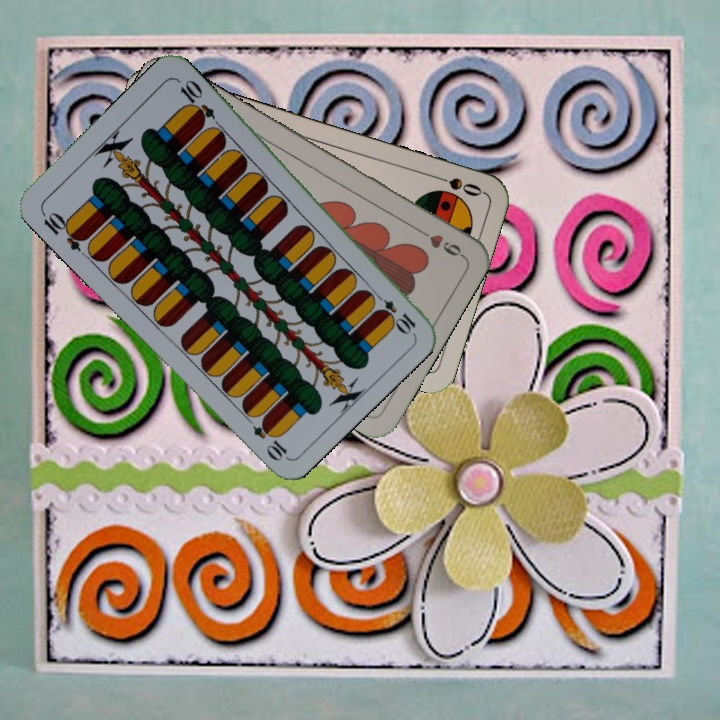E10: (37, 207, 90, 254), (368, 288, 419, 336)
H9: (412, 224, 466, 260)
SO: (428, 170, 485, 199)
